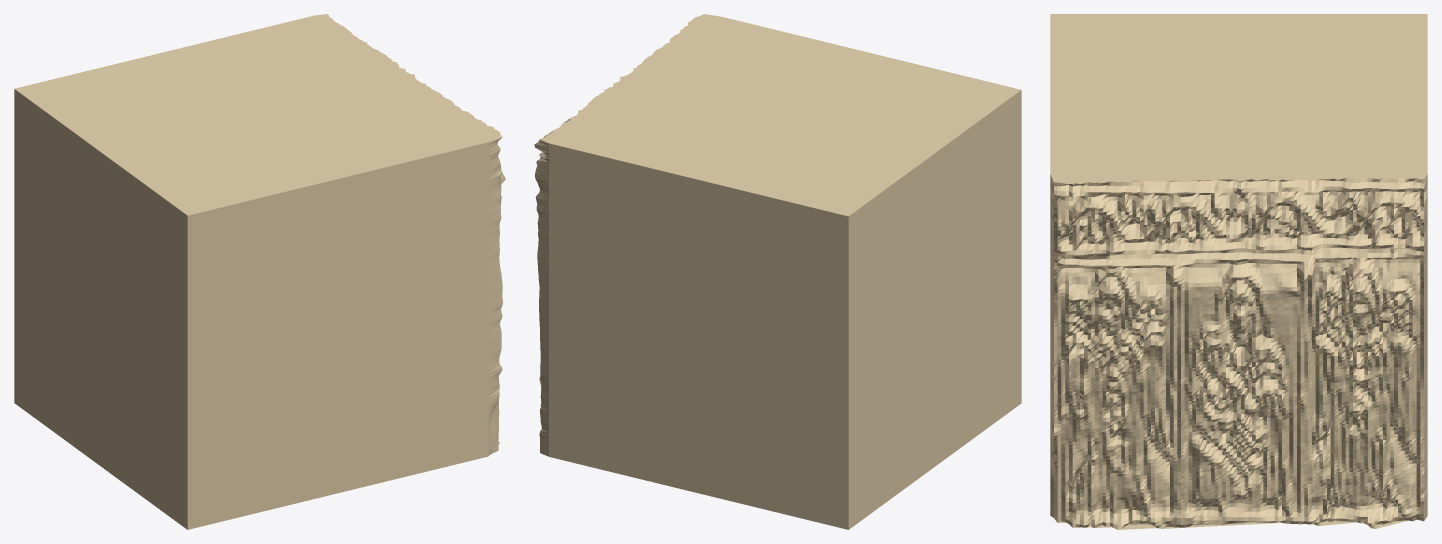
Rendered from top8.png.obj.
3 renders of one model, left to right at view 1: azimuth 30°, elevation 25°; view 2: azimuth 150°, elevation 25°; view 3: azimuth 270°, elevation 25°, orthographic. The views are drawn at different scales.
Parts seen in each view (by area): view 1: Cube; view 2: Cube; view 3: Cube.
Part boxes in pixels (x1,y1,x2,y2): Cube: (14, 14, 505, 529); Cube: (534, 14, 1021, 529); Cube: (1050, 14, 1427, 529).
Size of the model in its own units: 1.1 by 1 by 1.
